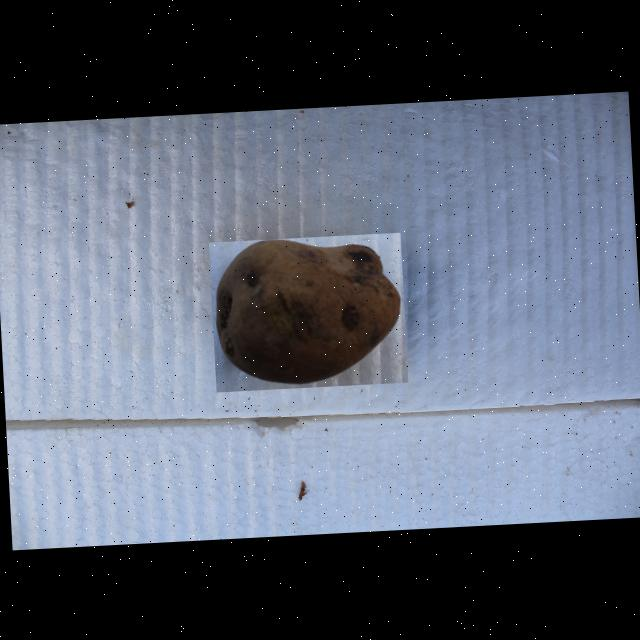Diseased-fungal potato: (208, 232, 408, 392)
